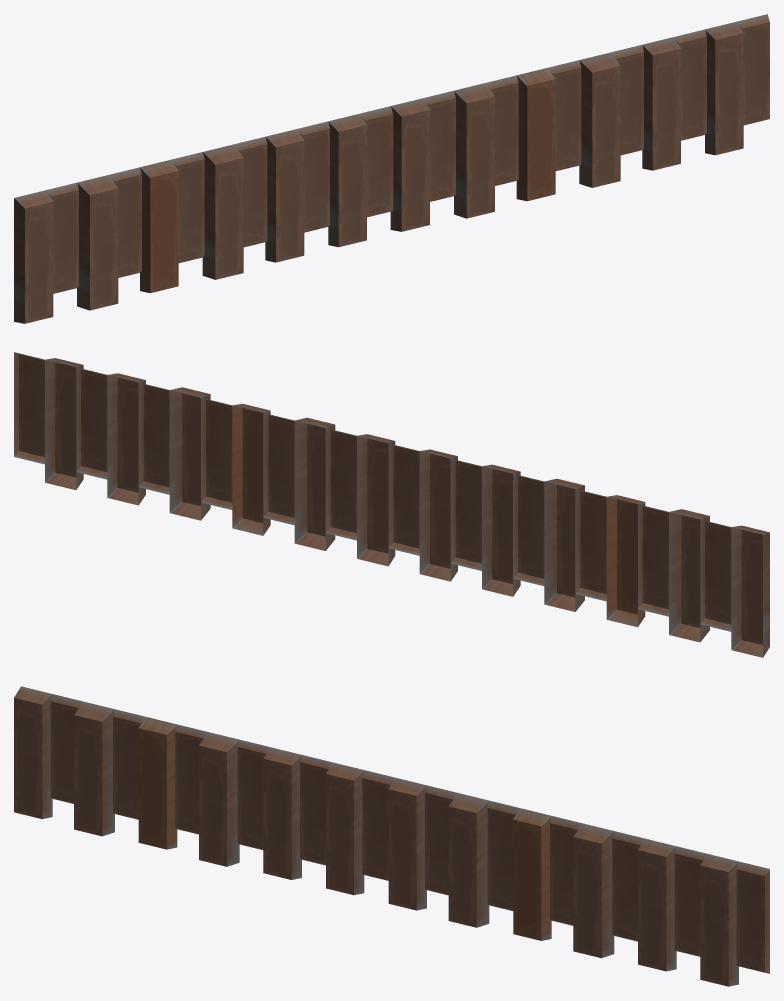
The model's file is Brick_Ornament_Horizontal.gltf.
The picture shows the model from 3 angles, top to bottom: view 1: azimuth 30°, elevation 25°; view 2: azimuth 150°, elevation 25°; view 3: azimuth 330°, elevation 25°; orthographic projection.
Parts seen in each view (by area): view 1: Brick_Ornament_Horizontal; view 2: Brick_Ornament_Horizontal; view 3: Brick_Ornament_Horizontal.
Part boxes in pixels (x1,y1,x2,y2): Brick_Ornament_Horizontal: (14,14,769,323); Brick_Ornament_Horizontal: (14,352,769,657); Brick_Ornament_Horizontal: (14,686,769,986).
Size of the model in its own units: 2 by 0.314 by 0.0514.
Materials: 1 (1 with a texture image).
